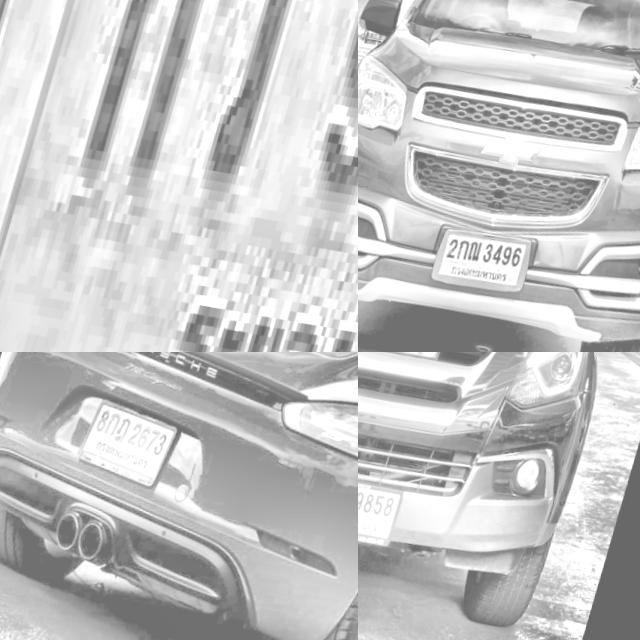license-plate: (0, 0, 358, 352), (75, 388, 194, 494), (435, 225, 550, 300), (358, 470, 416, 555)
